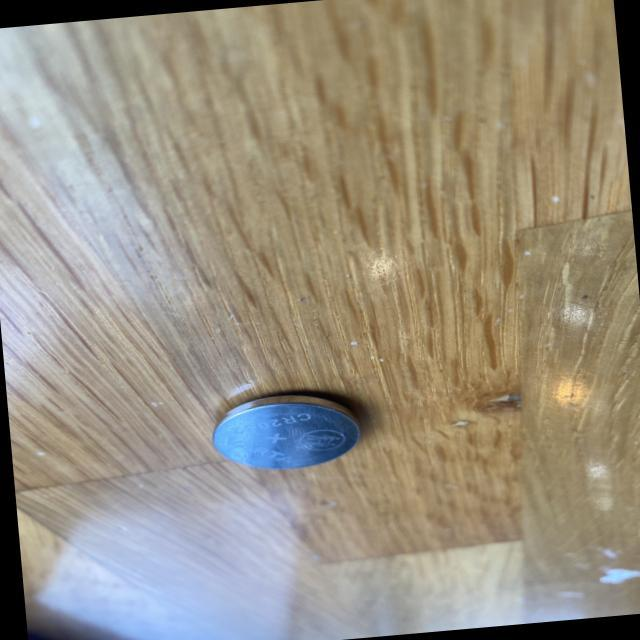COIN: (208, 386, 364, 476)
